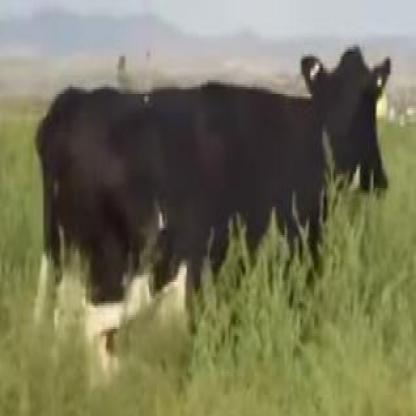cow: (34, 45, 392, 378)
